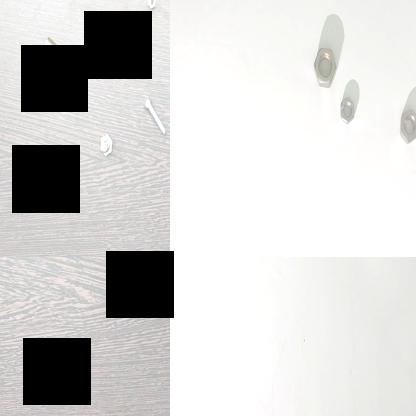Bolts: (42, 34, 82, 92), (141, 94, 169, 138), (98, 132, 119, 158), (145, 0, 157, 12)
NUTS: (313, 45, 337, 89), (398, 106, 416, 142), (340, 94, 356, 128)
